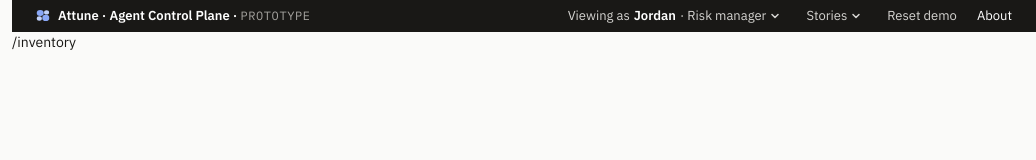
Stories lists each story with its person and length, and starts one
Click the button "Stories": (834,16) [800,4,867,28]
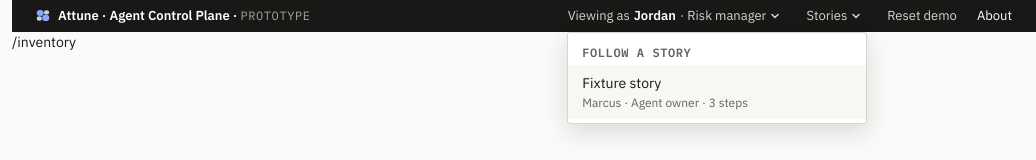
Now the menu item "Fixture story Marcus · Agent owner · 3 steps" is shown
Click the menu item "Fixture story Marcus · Agent owner · 3 steps": (717,92) [568,65,866,119]
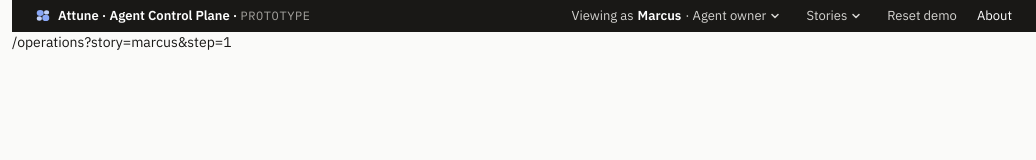
Now the text named "location" reads "/operations?story=marcus&step=1", box [12,33,232,51]
